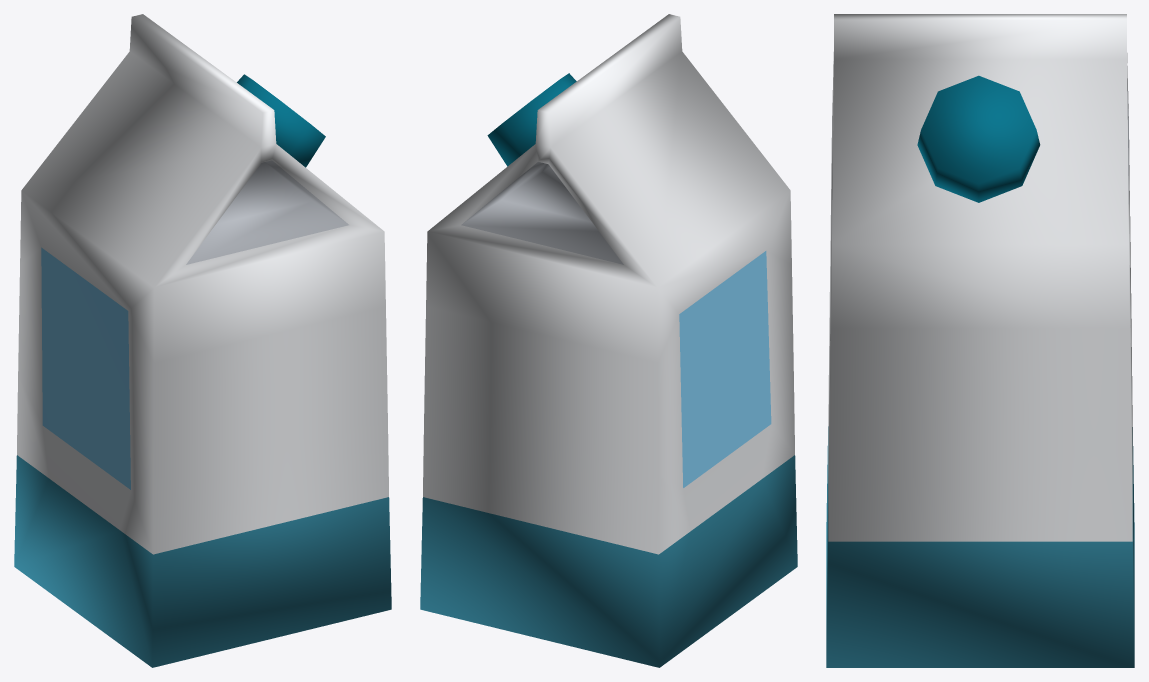
Rendered from milkbox.fbx.
3 views of the same model, side by side, from view 1: azimuth 30°, elevation 25°; view 2: azimuth 150°, elevation 25°; view 3: azimuth 270°, elevation 25° (orthographic). The views are drawn at different scales.
Parts seen in each view (by area): view 1: Cube.015; view 2: Cube.015; view 3: Cube.015.
Part boxes in pixels (x1,y1,x2,y2): Cube.015: [14, 14, 391, 667]; Cube.015: [420, 14, 797, 667]; Cube.015: [826, 14, 1134, 667].
Size of the model in its own units: 26.83 by 56.21 by 26.83.
